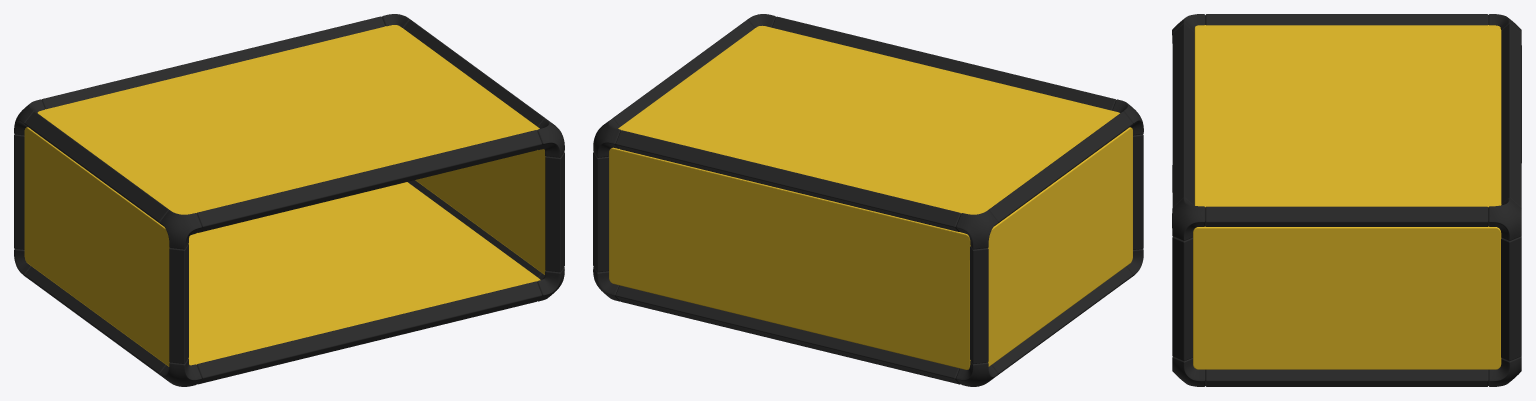
3 renders of one model, left to right at view 1: azimuth 30°, elevation 25°; view 2: azimuth 150°, elevation 25°; view 3: azimuth 270°, elevation 25°, orthographic. The views are drawn at different scales.
Visible parts, largest first — view 1: 479x329x154; view 2: 479x329x154; view 3: 479x329x154.
Part boxes in pixels (x1,y1,x2,y2): 479x329x154: (14, 14, 564, 386); 479x329x154: (593, 14, 1143, 386); 479x329x154: (1172, 14, 1521, 386).
Size of the model in its own units: 0.5567 by 0.2316 by 0.4063.
